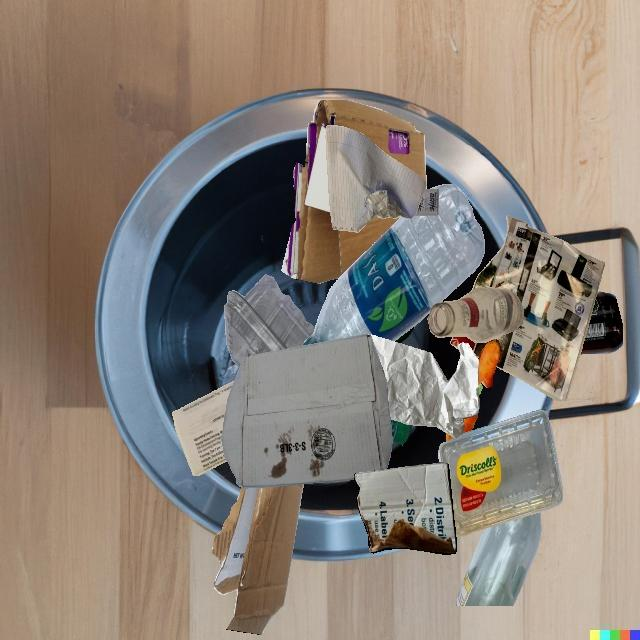biowaste: (478, 339, 501, 395)
cardboard: (281, 100, 427, 284), (221, 334, 393, 488), (212, 484, 303, 635), (354, 462, 457, 554)
glass: (454, 511, 541, 606), (428, 287, 523, 342), (580, 292, 623, 354)
paper: (471, 215, 605, 401), (368, 334, 480, 439), (326, 125, 426, 232), (172, 380, 235, 476)
plastic: (302, 184, 485, 346), (438, 409, 563, 537), (224, 274, 315, 368), (414, 189, 439, 216), (390, 420, 410, 445), (394, 324, 416, 343)
